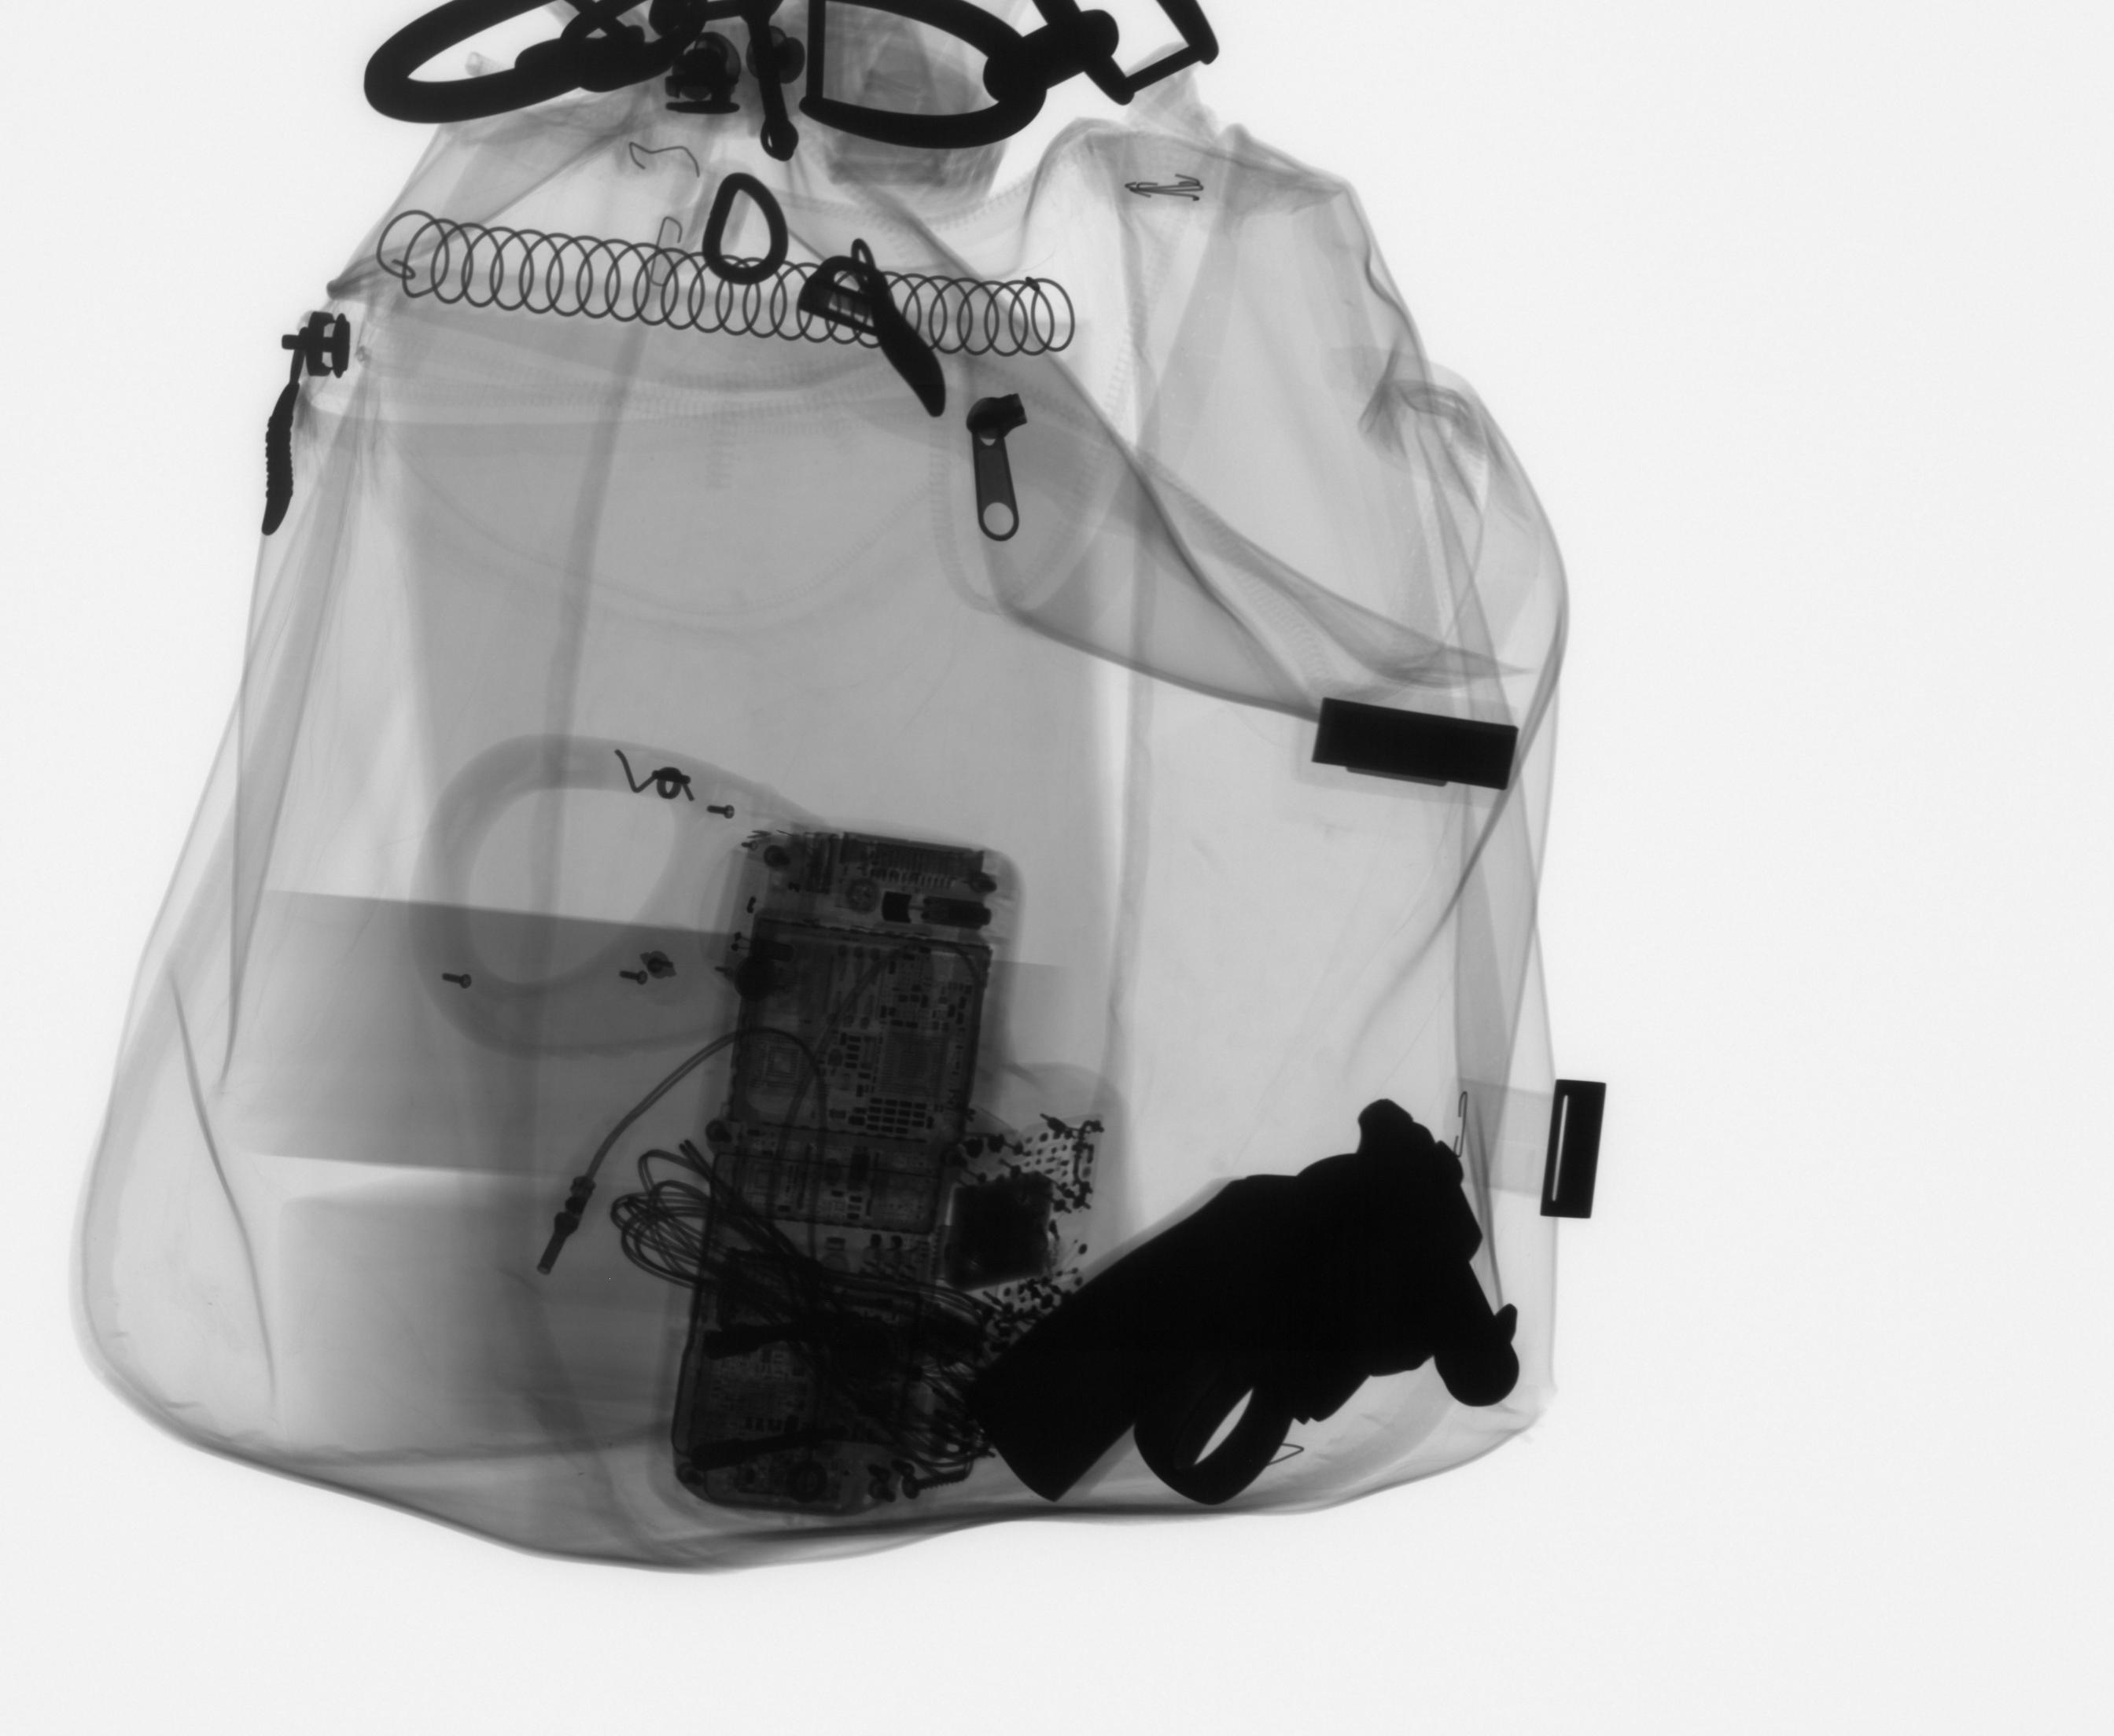Handgun: (980, 1088, 1535, 1536)
